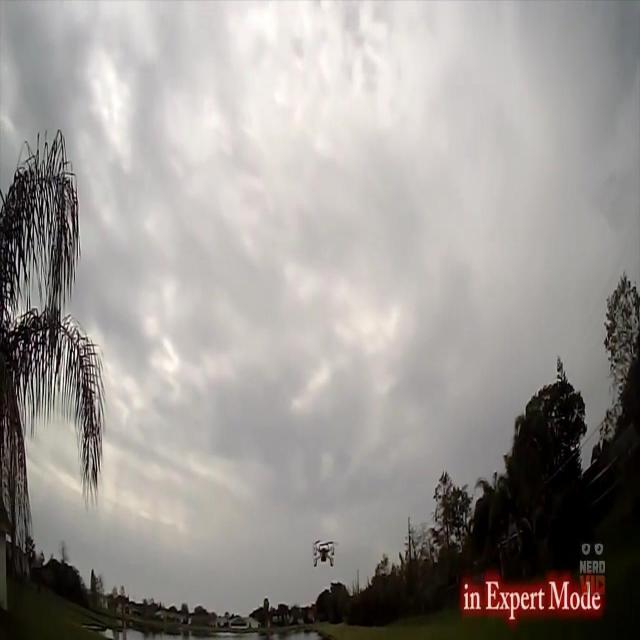drone: (311, 539, 337, 569)
